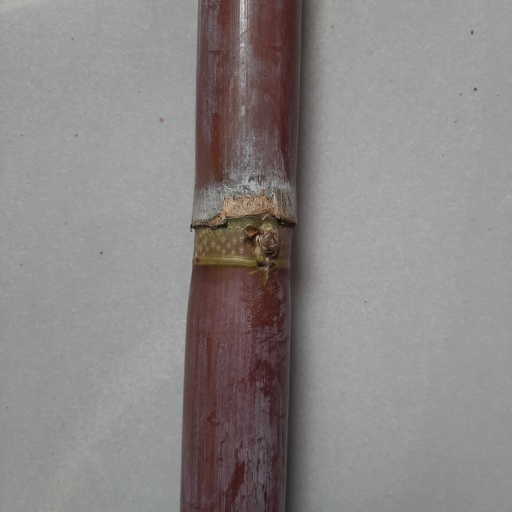Bud: (257, 228, 278, 257)
